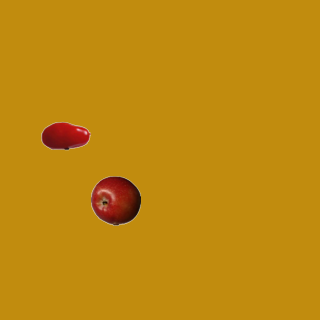Apple Braeburn: (90, 175, 140, 225)
Tomato 2: (40, 110, 90, 160)
